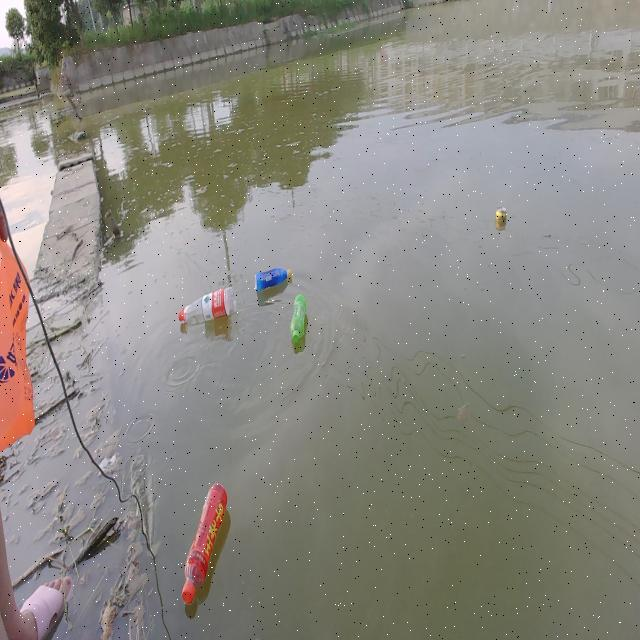Bottle: (180, 477, 229, 604), (176, 285, 238, 327), (251, 264, 294, 293), (289, 290, 307, 350)
Can: (490, 197, 509, 231)
